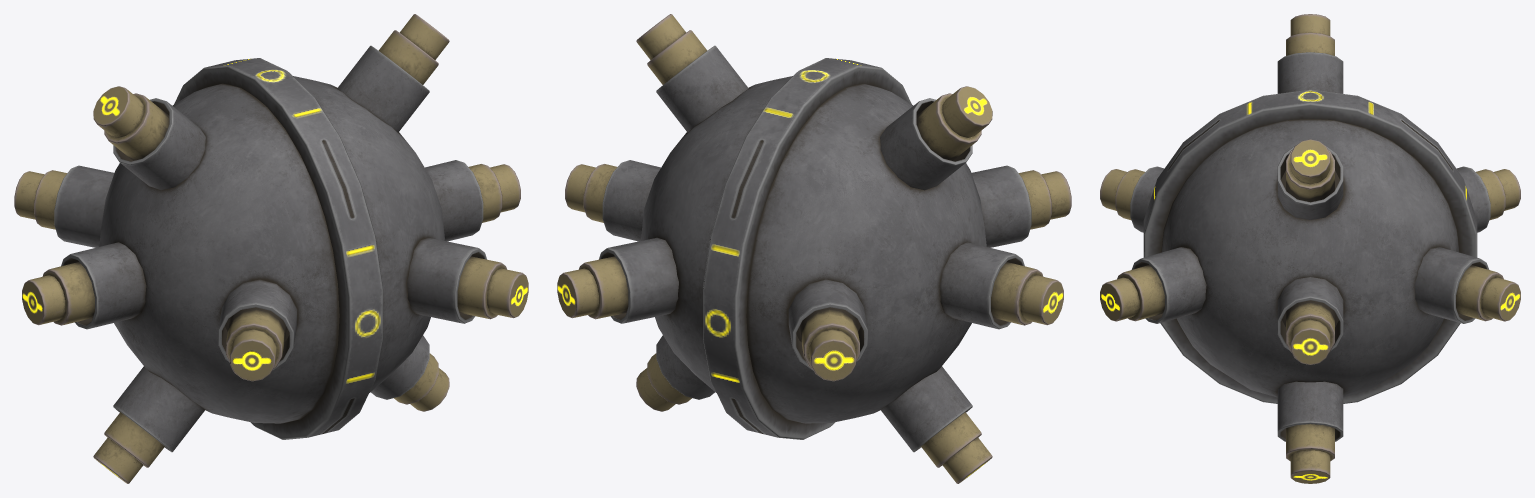
The model's file is Space Bomb 1.fbx.
The picture shows the model from 3 angles, left to right: view 1: azimuth 30°, elevation 25°; view 2: azimuth 150°, elevation 25°; view 3: azimuth 270°, elevation 25°; orthographic projection. The views are drawn at different scales.
Visible parts, largest first — view 1: Space Bomb 1; view 2: Space Bomb 1; view 3: Space Bomb 1.
Boxes of the visible parts, bbox=[...] form: Space Bomb 1: bbox=[14, 14, 528, 483]; Space Bomb 1: bbox=[557, 14, 1071, 483]; Space Bomb 1: bbox=[1100, 14, 1520, 483].
Bounding box in the file's own units: 115 × 90.68 × 101.
